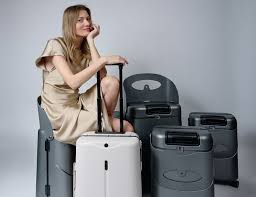suitcase: (69, 58, 146, 197), (128, 100, 182, 194), (144, 123, 210, 197), (188, 112, 239, 189)
